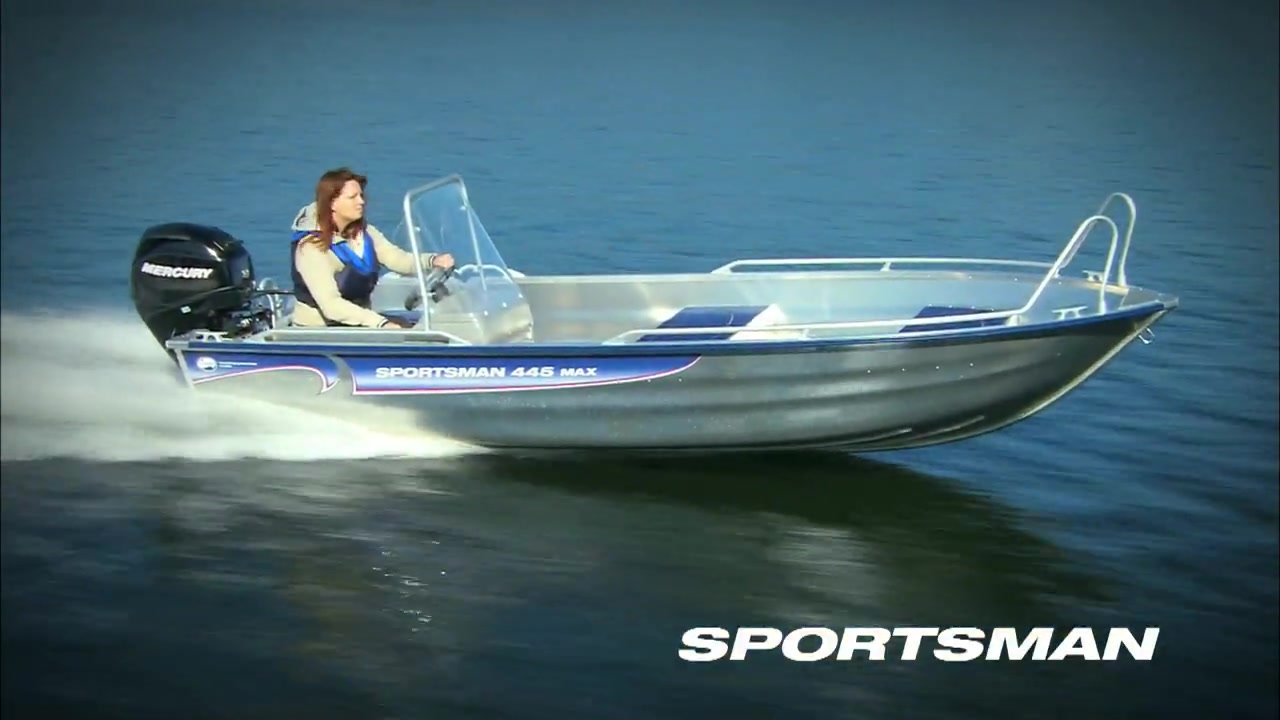boat: (134, 174, 1183, 475)
